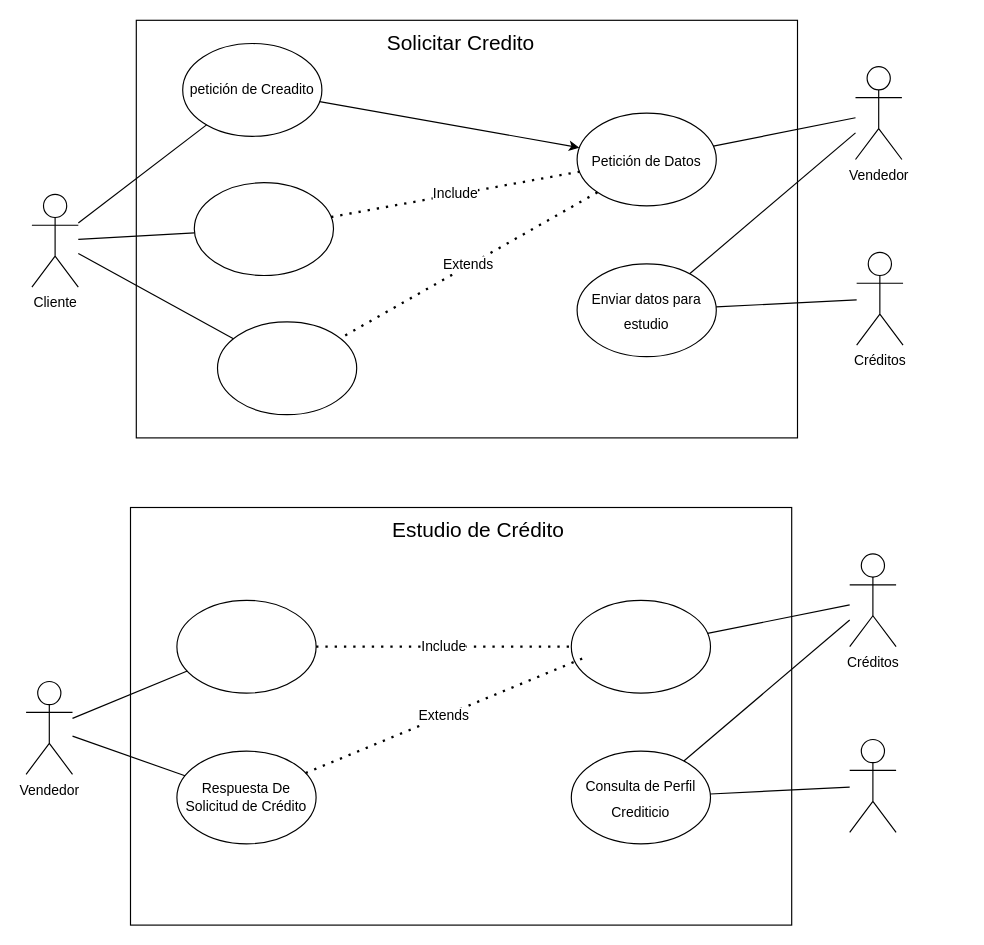
Image size: 984x945. Some labels were removed from this diagram. The centre of each missing label's shape, as x and y in pixels:
"Entrega de Datos" goes at point 263,229.
"Envió de datos del credito" goes at point 246,646.
"Respuesta Del Crédito" goes at point 286,368.
"Sistema externo(data crédito)" goes at point 872,785.
"Validación de Créditos" goes at point 640,646.
